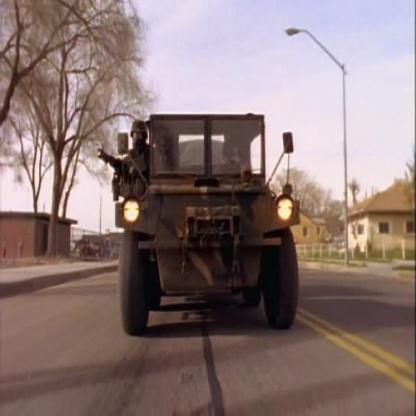Guns: (94, 144, 130, 204)
